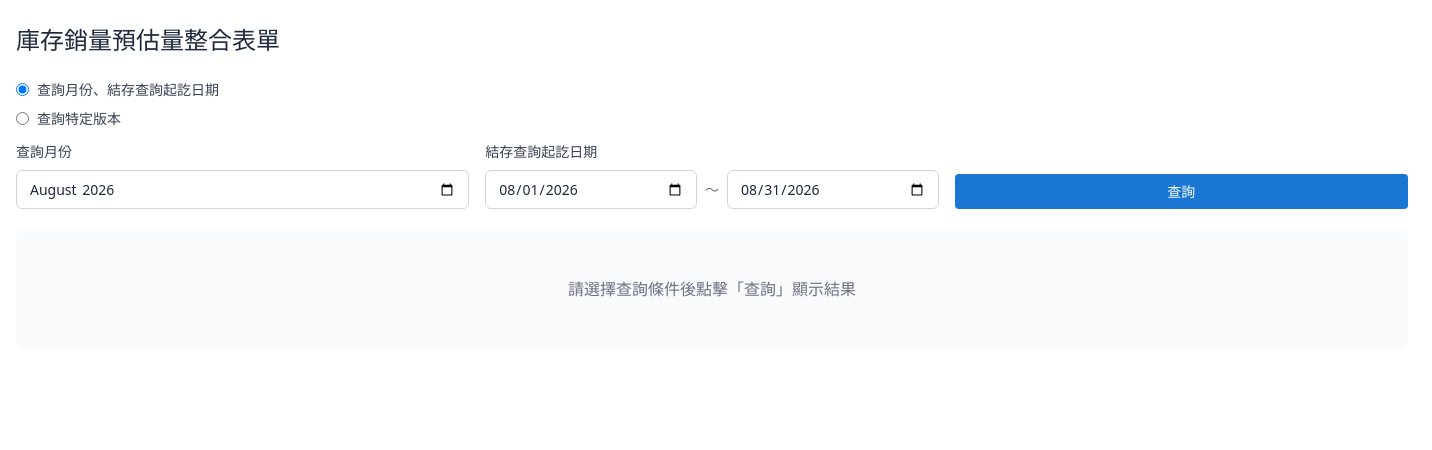
Test case: InventoryIntegrationPage › should not allow editing without inventory.edit permission
What coordinates should you click on to do the following:
click the button "查詢"
I would click on:
 (1181, 191)
Its box is [955,174,1408,209].
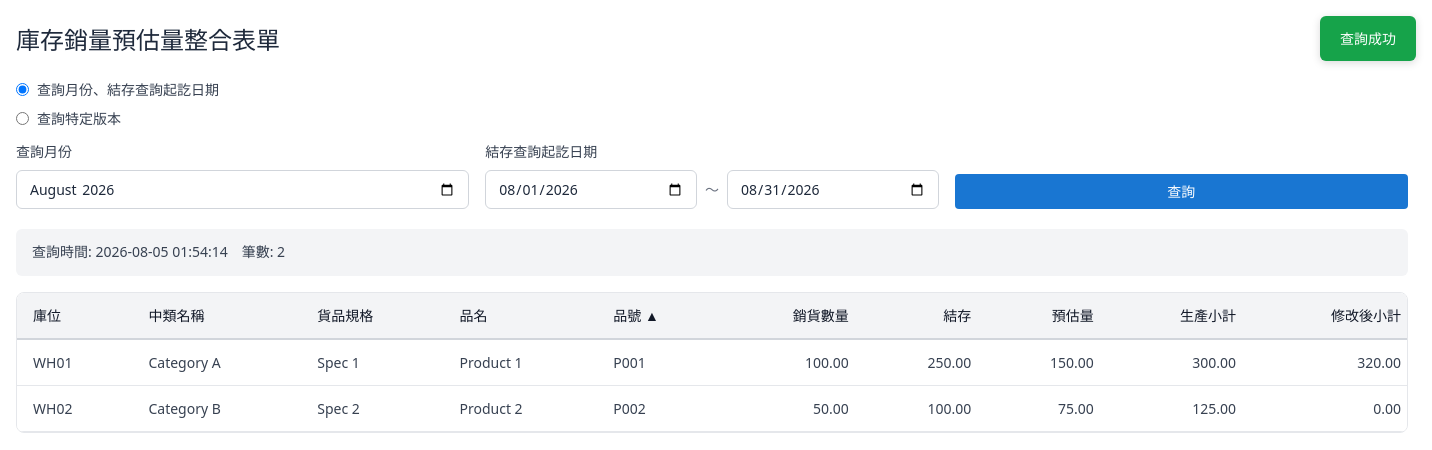
Expected: the text "320.00" is shown, [1252,339,1408,385]
